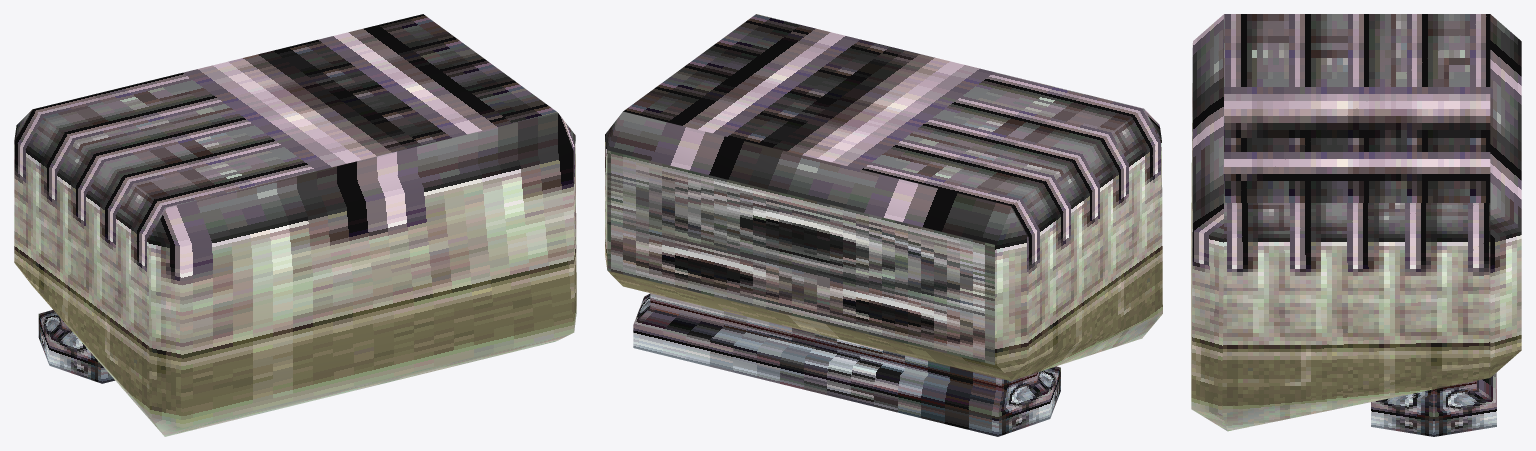
The model's file is ttank_ore_3db.gltf.
3 renders of one model, left to right at view 1: azimuth 30°, elevation 25°; view 2: azimuth 150°, elevation 25°; view 3: azimuth 270°, elevation 25°, orthographic.
Parts seen in each view (by area): view 1: ttank_ore.3db; view 2: ttank_ore.3db; view 3: ttank_ore.3db.
Boxes of the visible parts, left/top/right/bottom form: ttank_ore.3db: left=14, top=14, right=576, bottom=436; ttank_ore.3db: left=605, top=14, right=1162, bottom=436; ttank_ore.3db: left=1191, top=14, right=1521, bottom=436.
Bounding box in the file's own units: 3.28 × 1.71 × 2.22.
3 materials, 3 textured.
